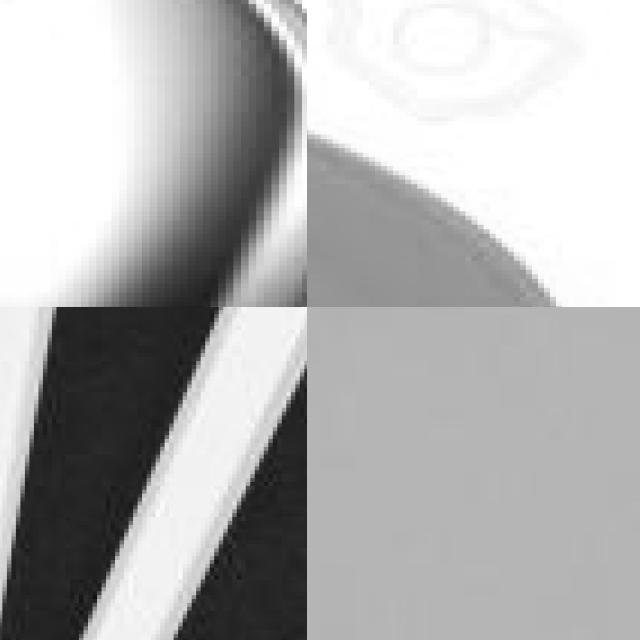forks: (307, 0, 640, 307)
spoons: (0, 0, 307, 307)
